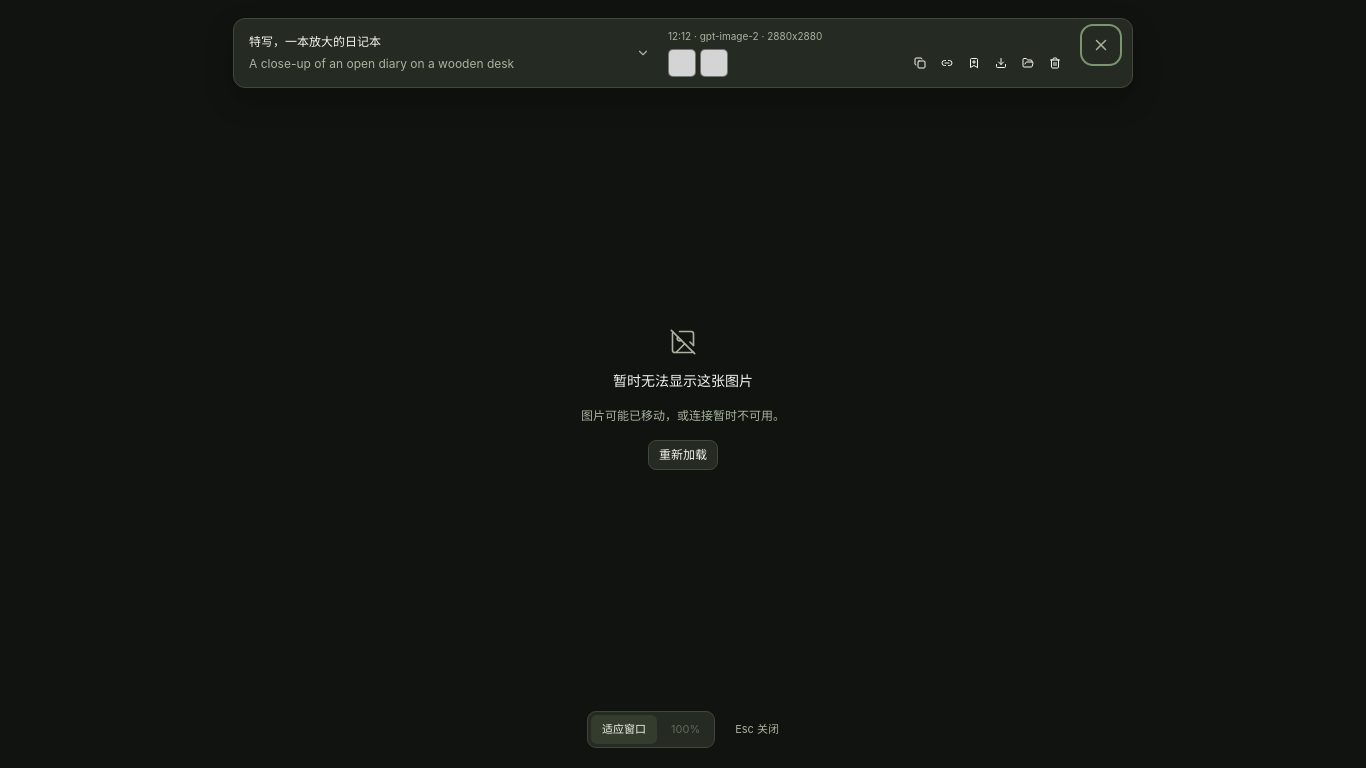
it: EffectImageViewer › 图片读取失败显示可操作的错误，重新加载会重新创建图片元素
expect the message "暂时无法显示这张图片 图片可能已移动，或连接暂时不可用。 重新加载" is shown: met, box [581,328,785,470]
Click the button "重新加载".
click(683, 455)  # box [648,440,718,470]
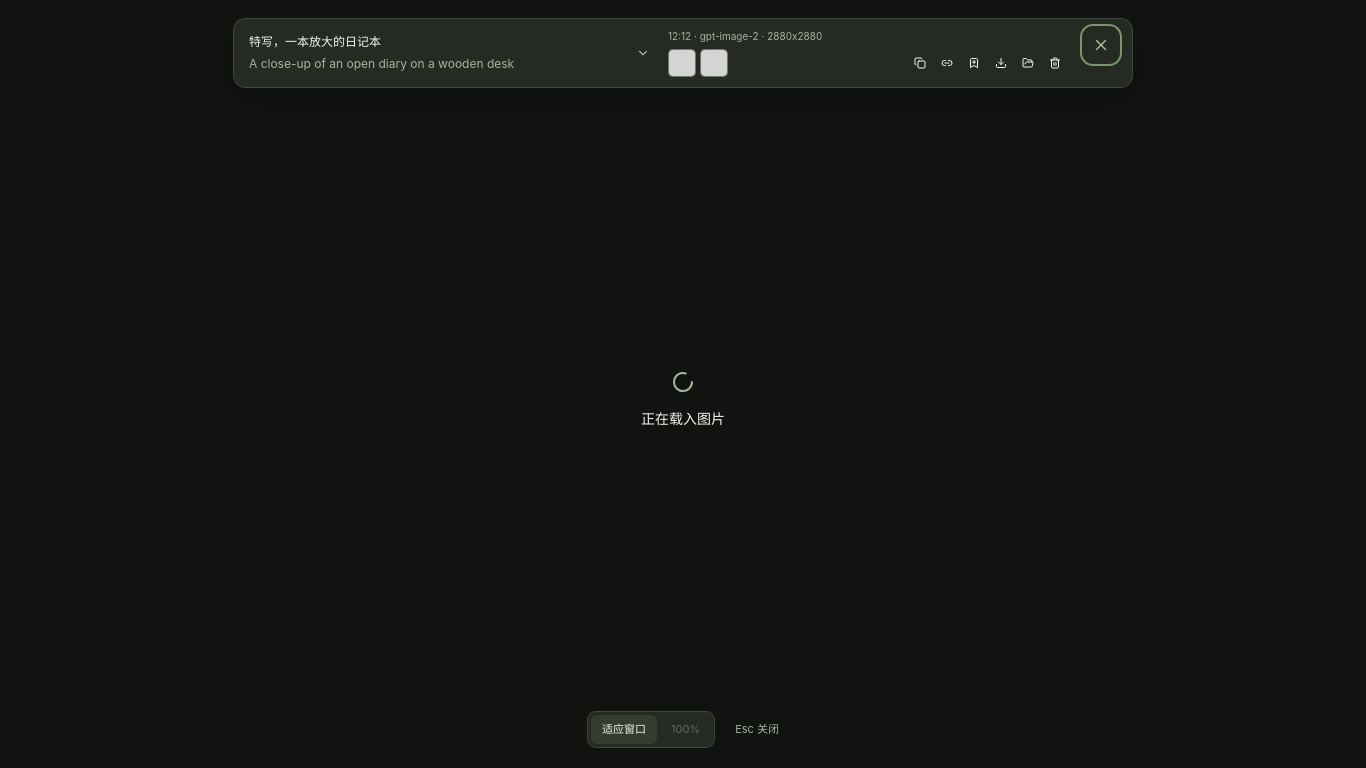
expect the message "正在载入图片" is shown: met, box [641,370,725,426]
